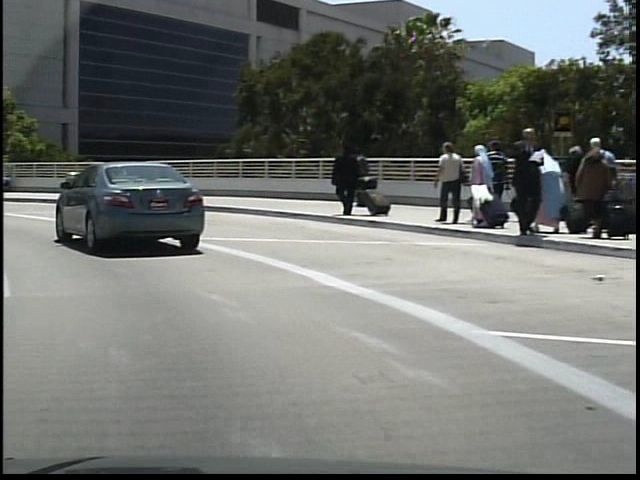person: (504, 122, 545, 238), (427, 139, 465, 225), (324, 141, 360, 217), (350, 148, 371, 209)
